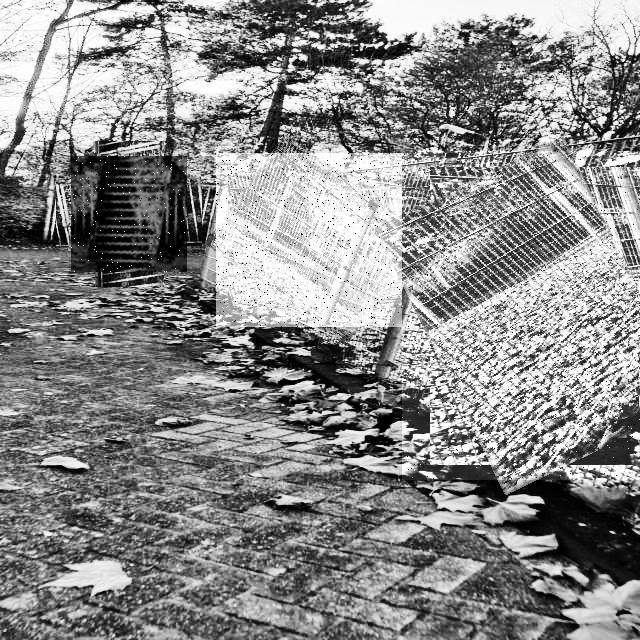fences: (402, 151, 640, 480), (216, 153, 414, 327), (71, 156, 187, 272)
